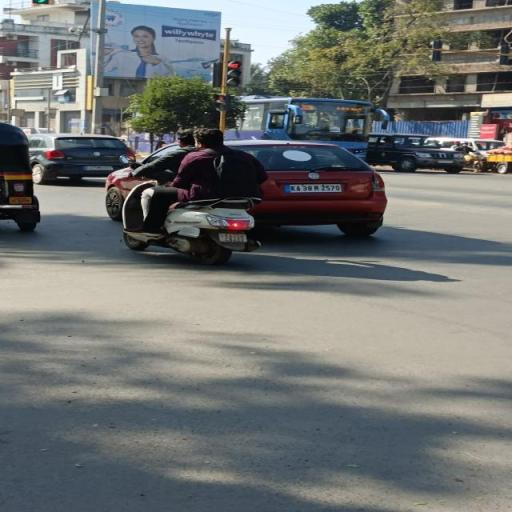bike: (105, 129, 279, 267)
numberplate: (220, 234, 249, 242)
withouthelmet: (198, 129, 224, 148), (177, 128, 194, 148)
